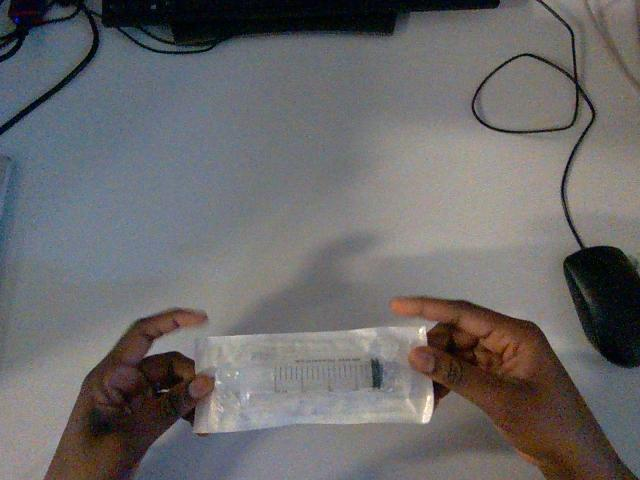syringe: (194, 326, 433, 432)
